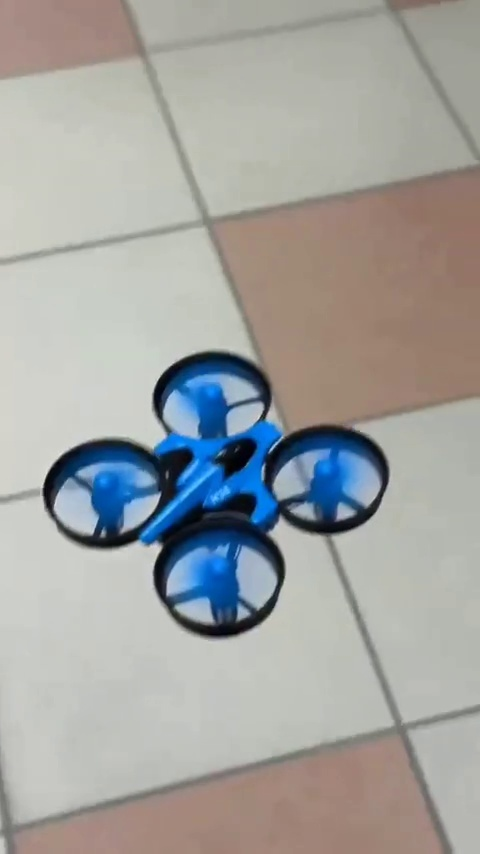drone: (45, 345, 388, 628)
